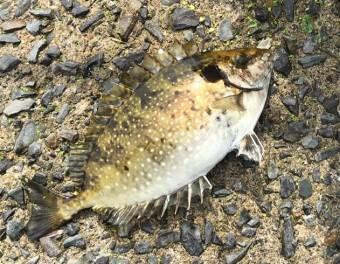fish: (28, 42, 276, 230)
